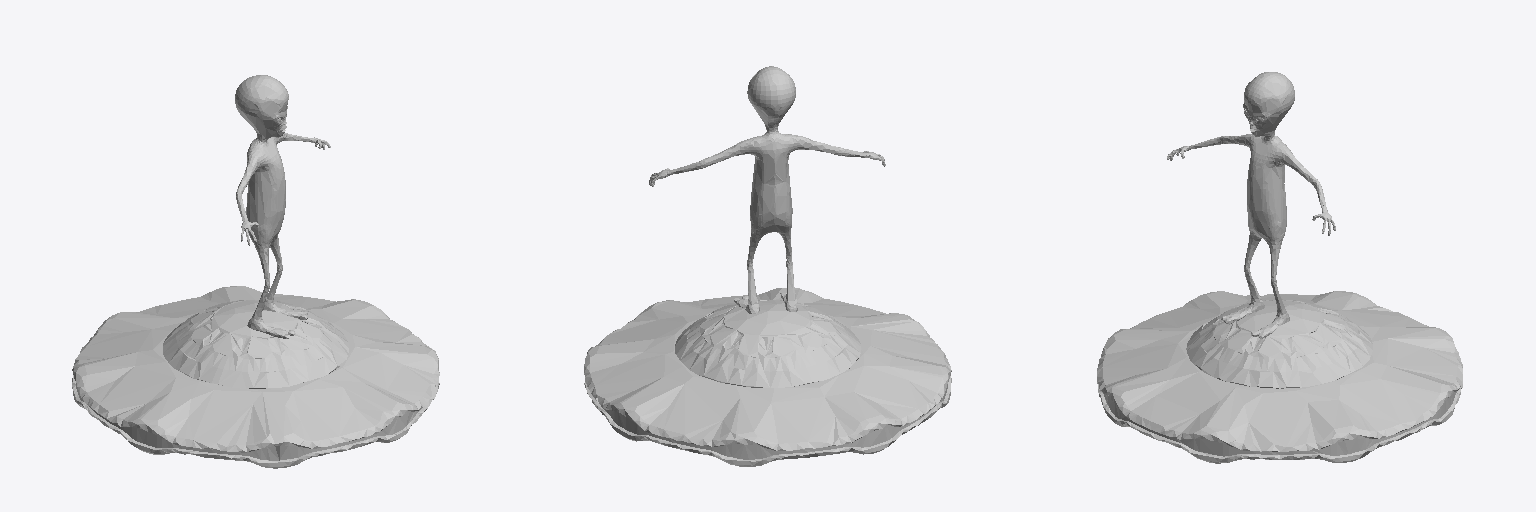
The model's file is frame_091.obj.
3 views of the same model, side by side, from view 1: azimuth 30°, elevation 25°; view 2: azimuth 150°, elevation 25°; view 3: azimuth 270°, elevation 25° (orthographic).
Visible parts, largest first — view 1: 13884_UFO_Saucer_v1_l2, 10469_GrayAlien_v01; view 2: 13884_UFO_Saucer_v1_l2, 10469_GrayAlien_v01; view 3: 13884_UFO_Saucer_v1_l2, 10469_GrayAlien_v01.
Part boxes in pixels (x1,y1,x2,y2): 13884_UFO_Saucer_v1_l2: (72,286,439,468); 10469_GrayAlien_v01: (235,75,330,338); 13884_UFO_Saucer_v1_l2: (584,288,951,466); 10469_GrayAlien_v01: (649,66,885,313); 13884_UFO_Saucer_v1_l2: (1097,291,1462,463); 10469_GrayAlien_v01: (1167,72,1335,338).
Bounding box in the file's own units: 12.69 × 13.96 × 12.7.